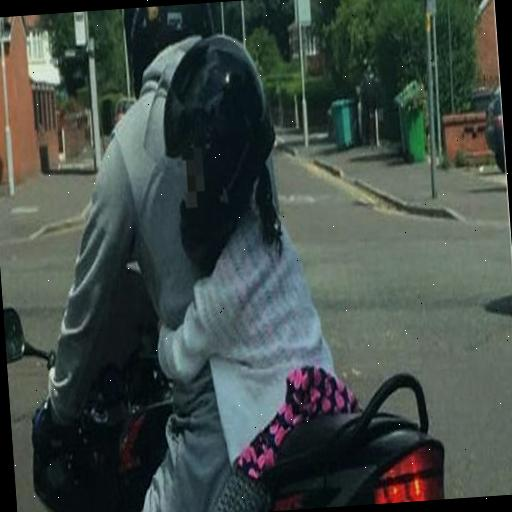helmet: (26, 3, 231, 512)
